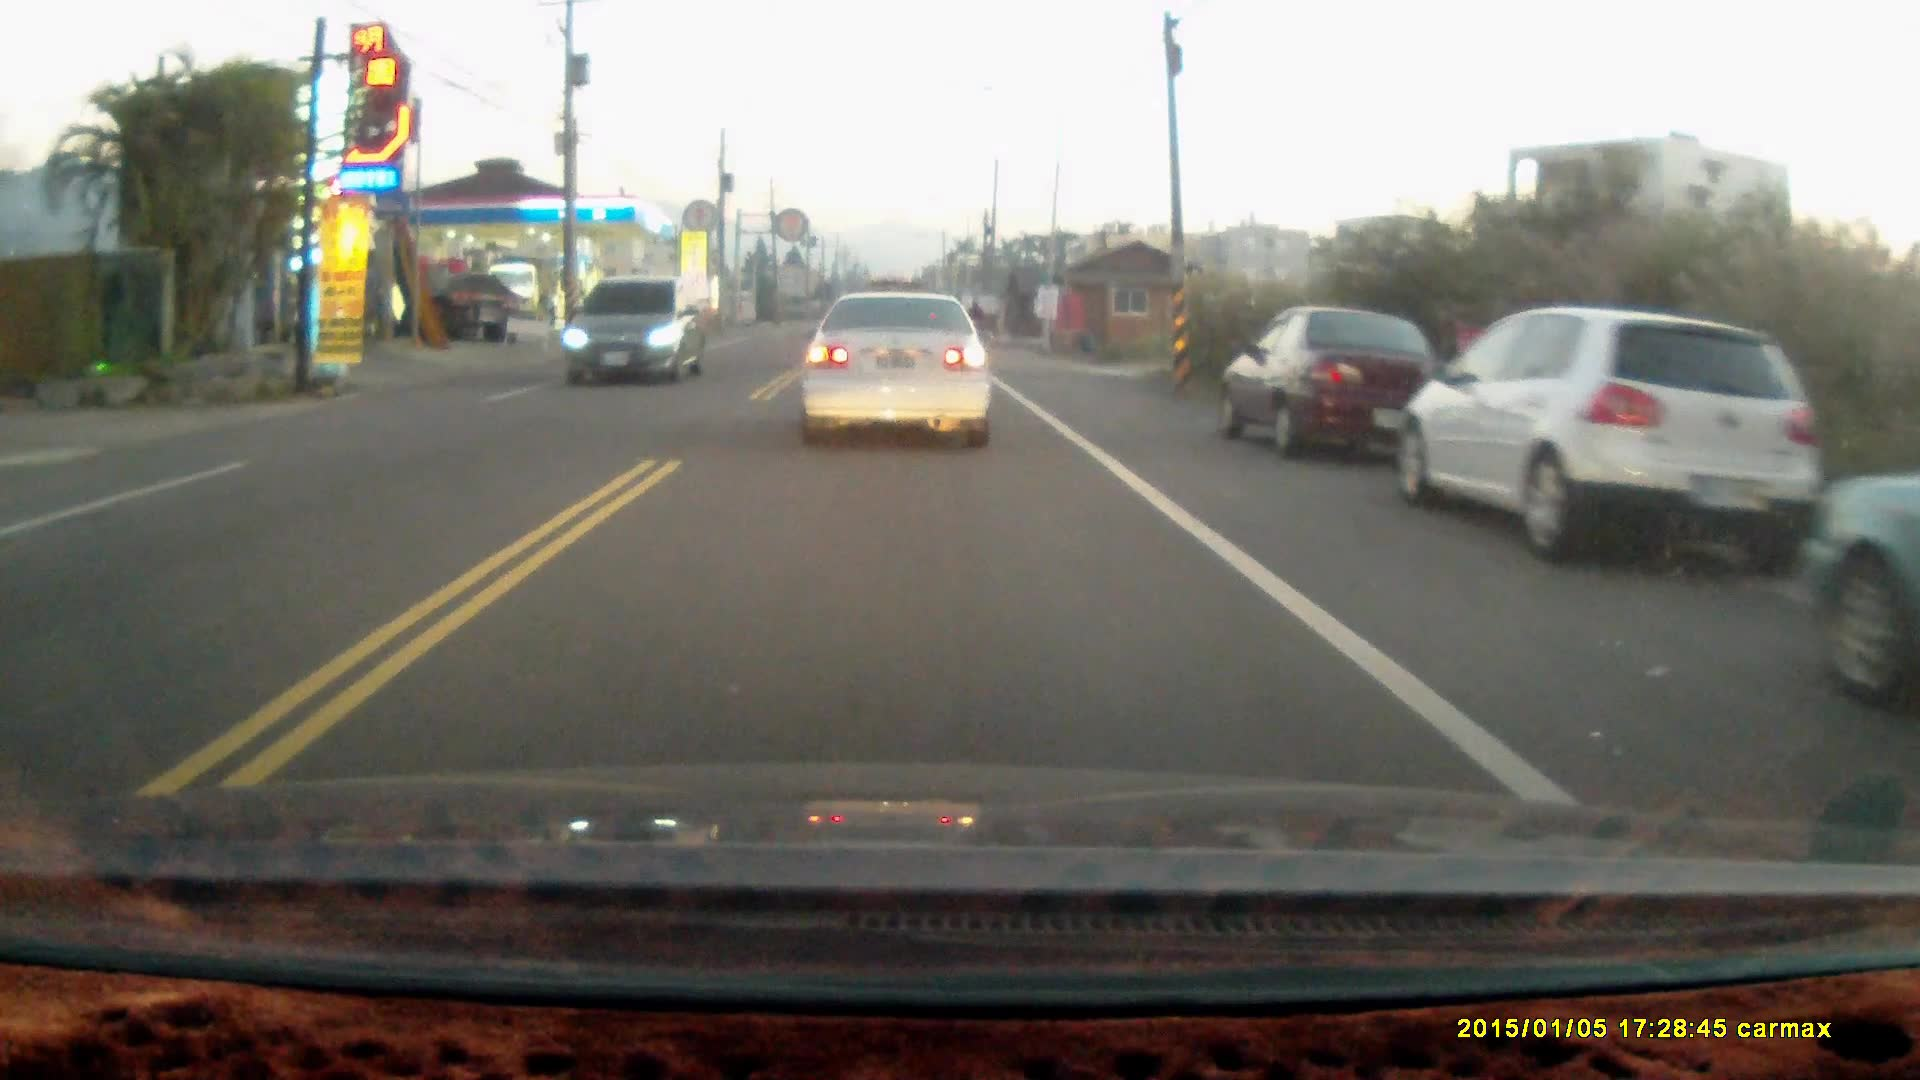vehicle: (1404, 303, 1841, 554), (1220, 305, 1460, 451), (796, 280, 996, 446), (564, 274, 709, 382)
